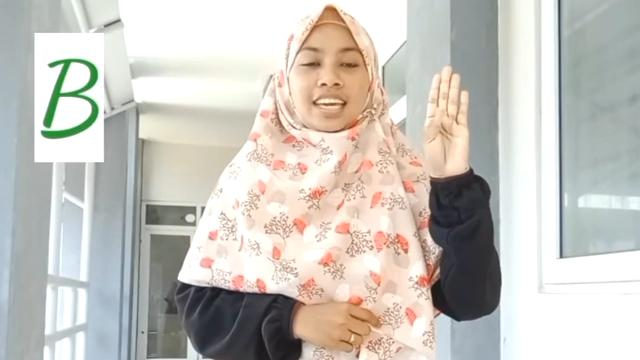B: (420, 64, 470, 176)
